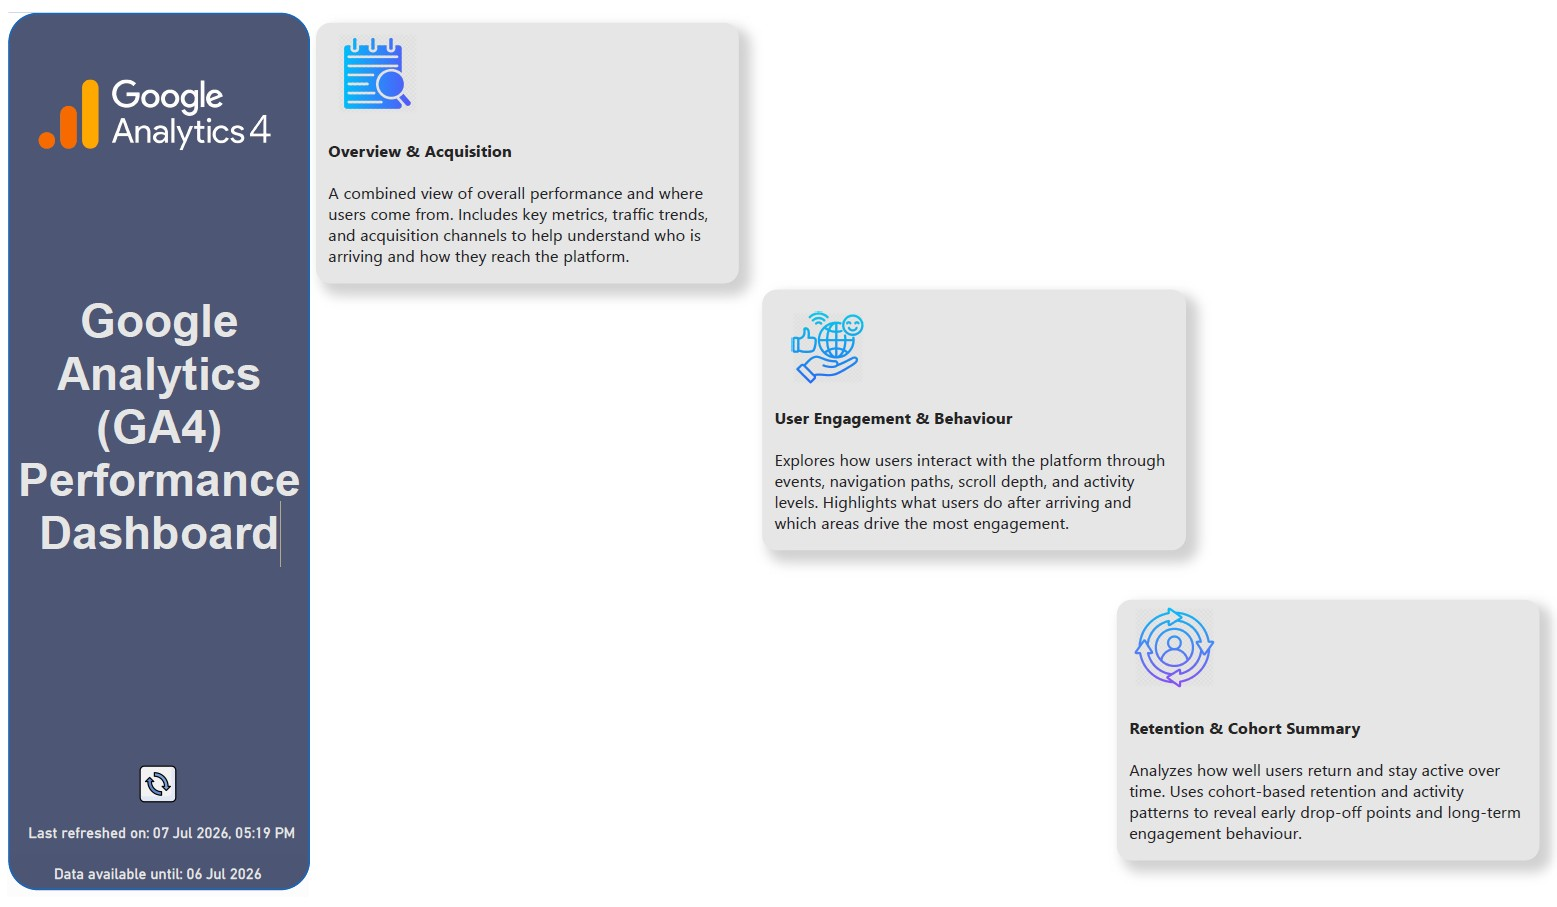

Layout of this report page (visuals, bound fields, positions):
{"tool":"powerbi","page":{"name":"Home","canvas":[1280,720],"ordinal":0},"visuals":[{"type":"shape","box":[11,0,254,720],"z":0},{"type":"textbox","box":[17.2,227.6,242.1,264.8],"z":1000},{"type":"actionButton","box":[640.2,242.1,76.2,67.1],"z":2000},{"type":"card","fields":{"Values":["Measure.Last Refresh Time"]},"box":[17.2,653.8,245.7,33.6],"z":3000},{"type":"card","title":"Data Available until","fields":{"Values":["Measure.BigQuery Data Available Until"]},"box":[14.5,687.4,244.8,32.6],"z":4000},{"type":"image","box":[121.5,612.1,30.8,33.6],"z":5000},{"type":"actionButton","box":[275.7,20.9,76.2,67.1],"z":6000},{"type":"actionButton","box":[921.3,484.2,76.2,67.1],"z":7000},{"type":"group","id":"g1","title":"Group 1","box":[264.8,12.7,342,211],"z":8000},{"type":"textbox","box":[264.8,12.7,342,211],"z":8000,"group":"g1"},{"type":"group","id":"g2","title":"Group 2","box":[625.7,229.4,342.8,211.3],"z":9000},{"type":"textbox","box":[913.1,479.7,342,211],"z":9000,"group":"g3"},{"type":"textbox","box":[625.7,229.4,342.8,211.3],"z":10000,"group":"g2"},{"type":"group","id":"g3","title":"Group 3","box":[913.1,479.7,342,211],"z":10000},{"type":"image","box":[4.5,29,272,117.9],"z":11000},{"type":"image","box":[275.7,20.9,76.2,67.1],"z":13000,"group":"g1"},{"type":"image","box":[921.3,484.2,76.2,67.1],"z":14000,"group":"g3"},{"type":"image","box":[642,246.6,72.5,59.8],"z":14500,"group":"g2"}]}

Visuals, with their boxes on the page's 1280x720 design canvas (x1, y1, x2, y2). These are canvas units, not pixel positions in the 1557x907 screenshot, which may show the page scaled, cropped or inside an application window:
shape: 11,0,265,720
textbox: 17,228,259,492
actionButton: 640,242,716,309
card - Measure.Last Refresh Time: 17,654,263,687
"Data Available until" card: 14,687,259,720
image: 122,612,152,646
actionButton: 276,21,352,88
actionButton: 921,484,998,551
"Group 1" group: 265,13,607,224
textbox: 265,13,607,224
"Group 2" group: 626,229,968,441
textbox: 913,480,1255,691
textbox: 626,229,968,441
"Group 3" group: 913,480,1255,691
image: 4,29,276,147
image: 276,21,352,88
image: 921,484,998,551
image: 642,247,714,306
